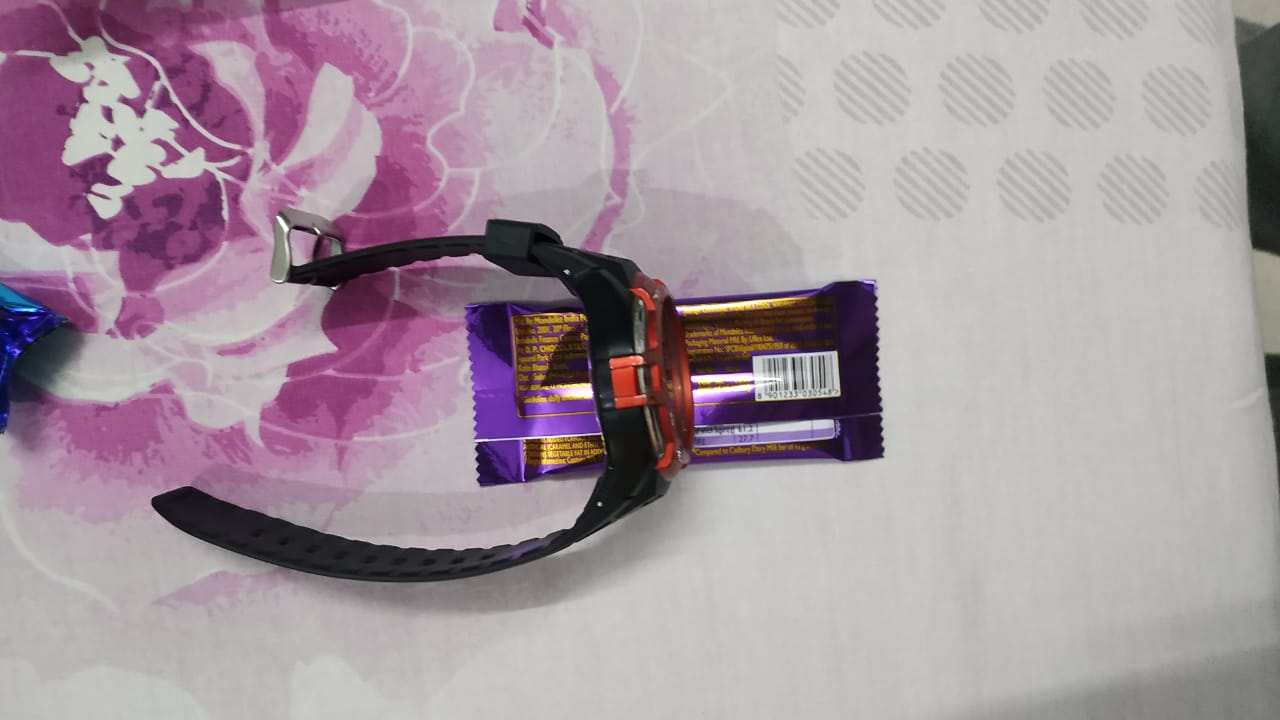dairy milk: (461, 279, 895, 491)
